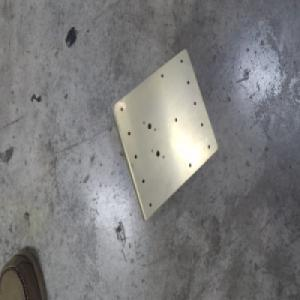MetalSheet: (110, 46, 217, 222)
